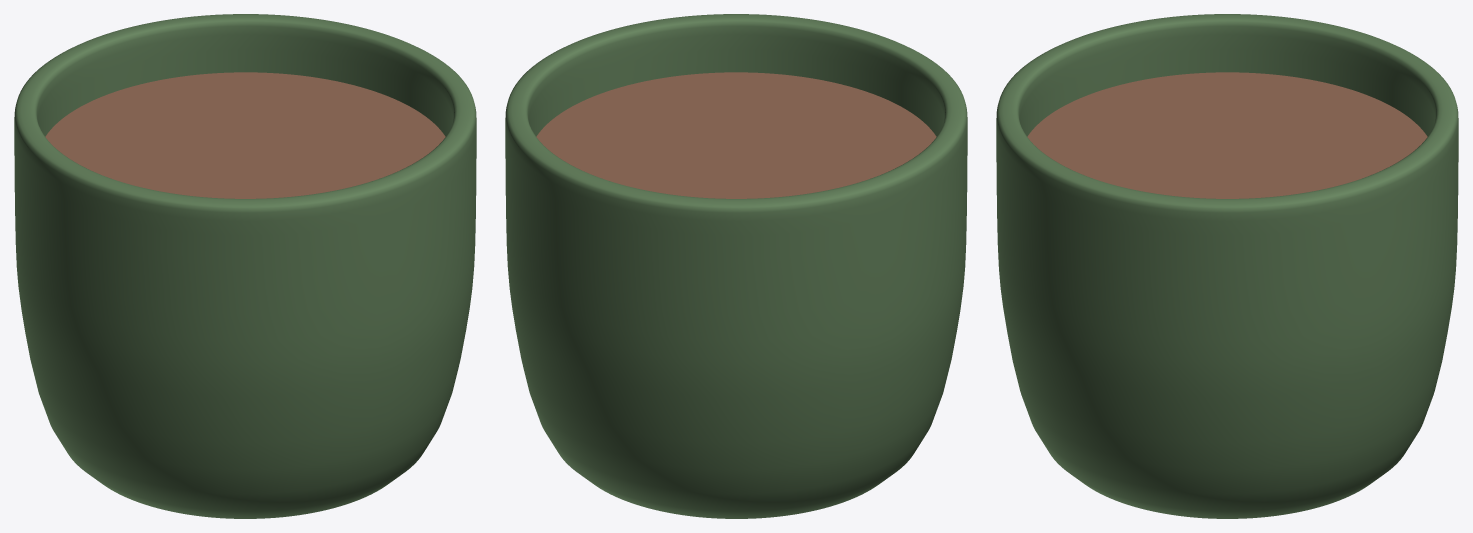
The model's file is basic_green.glb.
3 views of the same model, side by side, from view 1: azimuth 30°, elevation 25°; view 2: azimuth 150°, elevation 25°; view 3: azimuth 270°, elevation 25° (orthographic).
Visible parts, largest first — view 1: Circle.002, Circle.001; view 2: Circle.002, Circle.001; view 3: Circle.002, Circle.001.
Boxes of the visible parts, x1,y1,x2,y2 form: Circle.002: (14, 14, 476, 518); Circle.001: (45, 72, 445, 198); Circle.002: (505, 14, 967, 518); Circle.001: (536, 72, 936, 198); Circle.002: (996, 14, 1458, 518); Circle.001: (1027, 72, 1427, 198).
Bounding box in the file's own units: 11.86 × 10.04 × 11.86.
